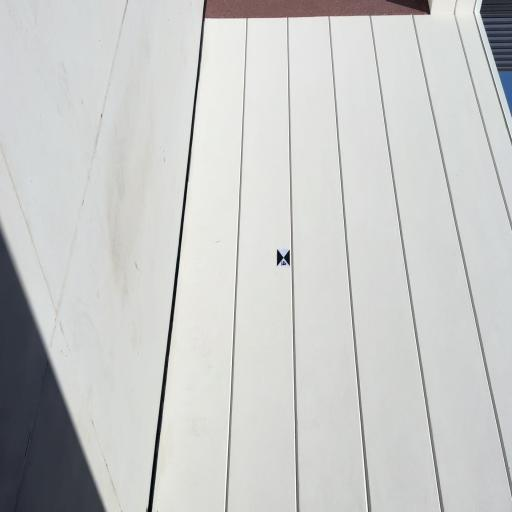target4: (276, 248, 290, 267)
